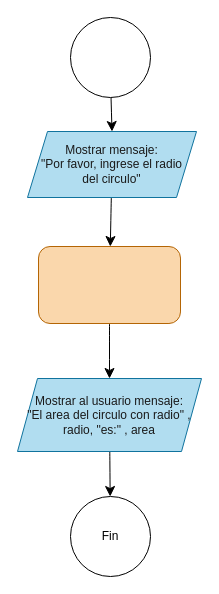
The diagram is 219 pixels wide and 594 high, and some of its shapes have lost their labels. The box of each missing label's shape, as (x1, y1, x2, y2) in pixels:
Definir y asignar a la variable area el resultado de π * radio^2: (38, 246, 180, 324)
Inicio: (70, 16, 150, 98)
